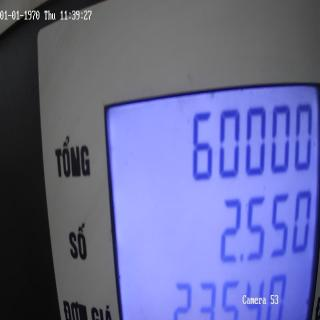screen: (97, 67, 319, 320)
